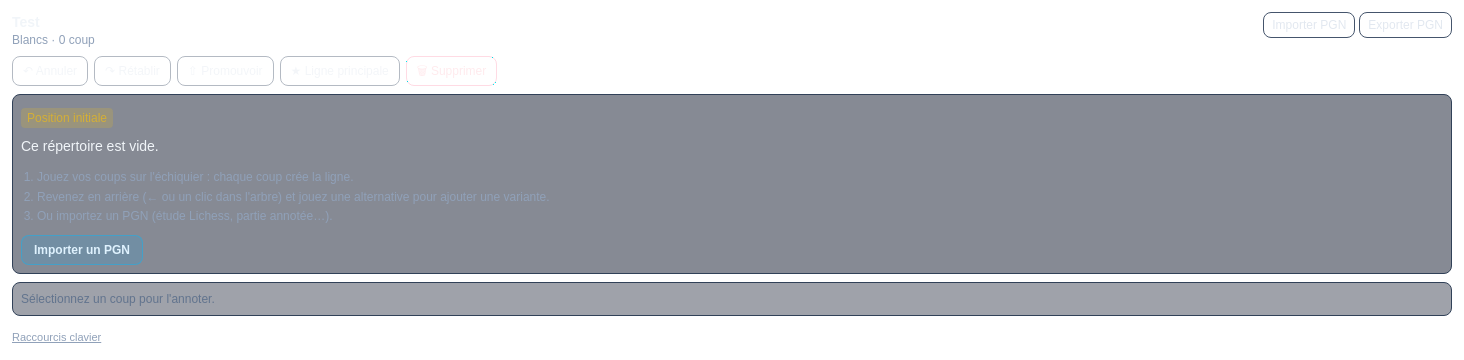
Test case: import dans l'éditeur › masque la barre d'outils pendant l'import et la rétablit à l'annulation
Expected: the element named "Actions de l'éditeur" is shown, [12,56,497,86]
Click the button "Importer PGN".
click(1309, 25)  # box [1263,12,1355,38]
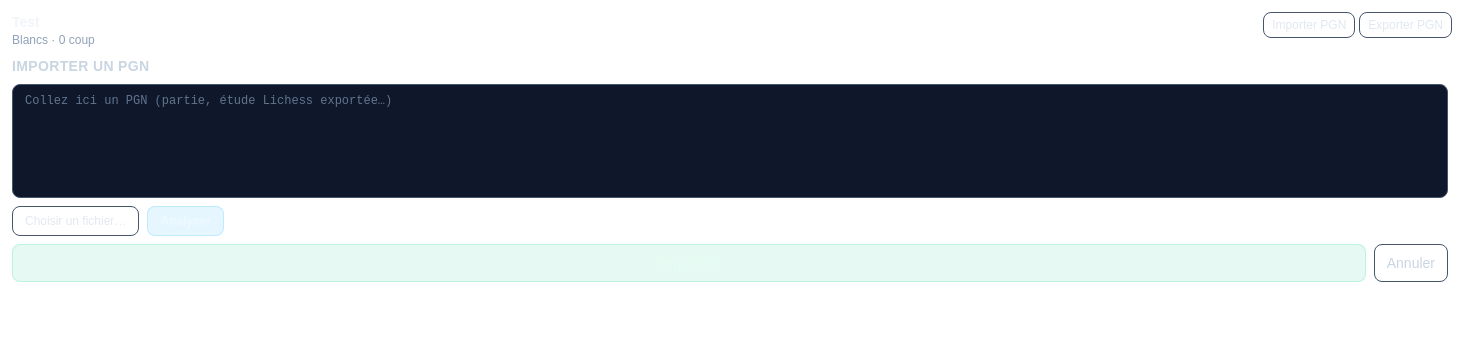
Click the button "Annuler".
click(1411, 263)  # box [1374,244,1448,282]
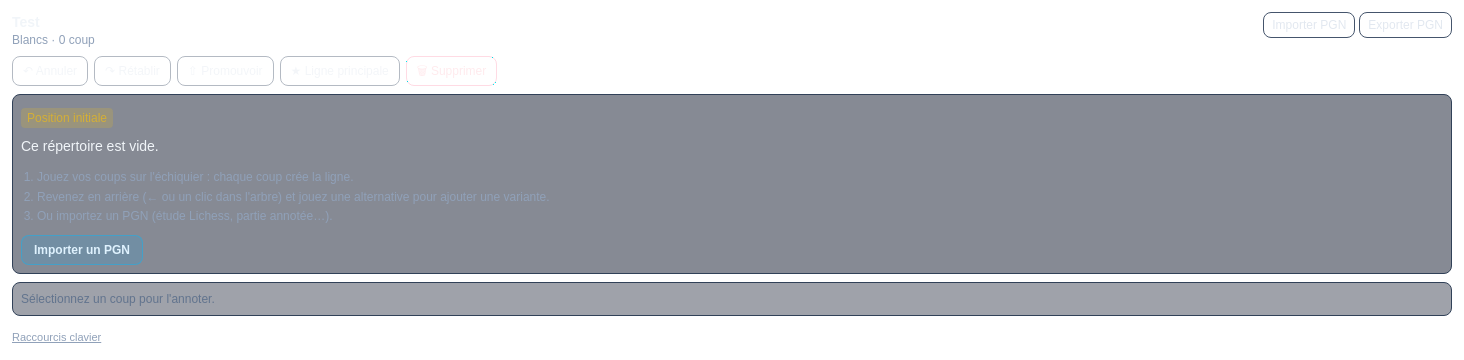
Result: the element named "Actions de l'éditeur" is shown at [12,56,497,86]
